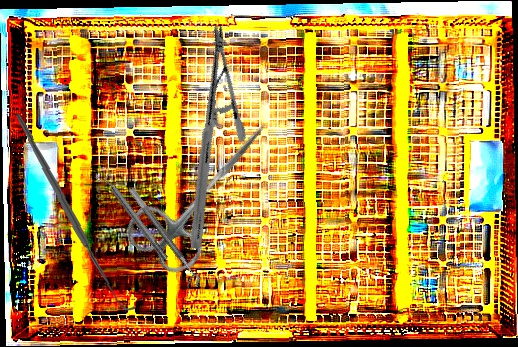Fixation Ring: (120, 186, 204, 293), (92, 164, 173, 266)
Hook Surgical: (8, 112, 142, 312)
Iris Scissors: (119, 97, 292, 284)
Needle Holder: (115, 22, 300, 252)
